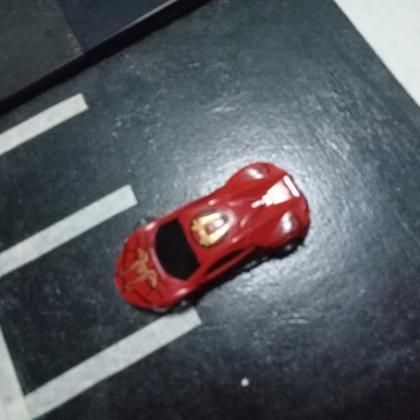Car: (112, 158, 313, 314)
